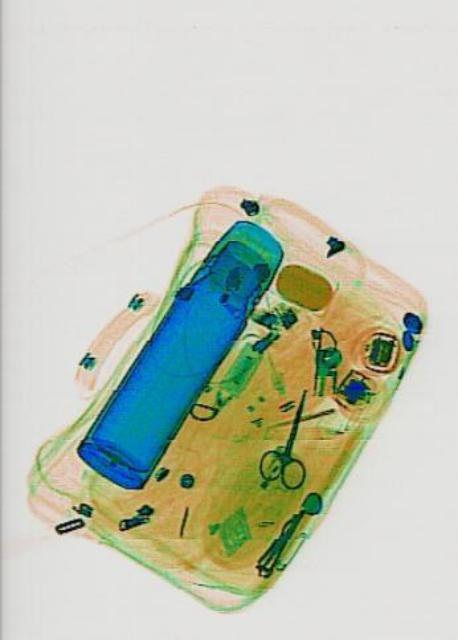Scissors: (252, 378, 323, 492)
